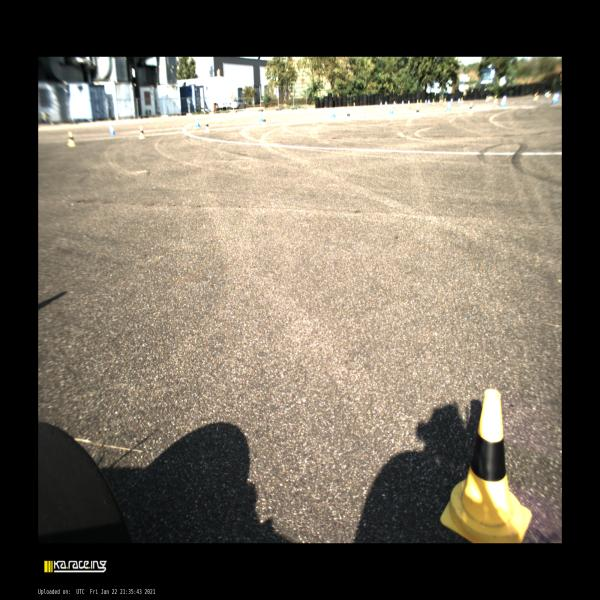yellow_cone: (440, 389, 532, 543), (67, 131, 75, 147), (138, 126, 146, 140)
